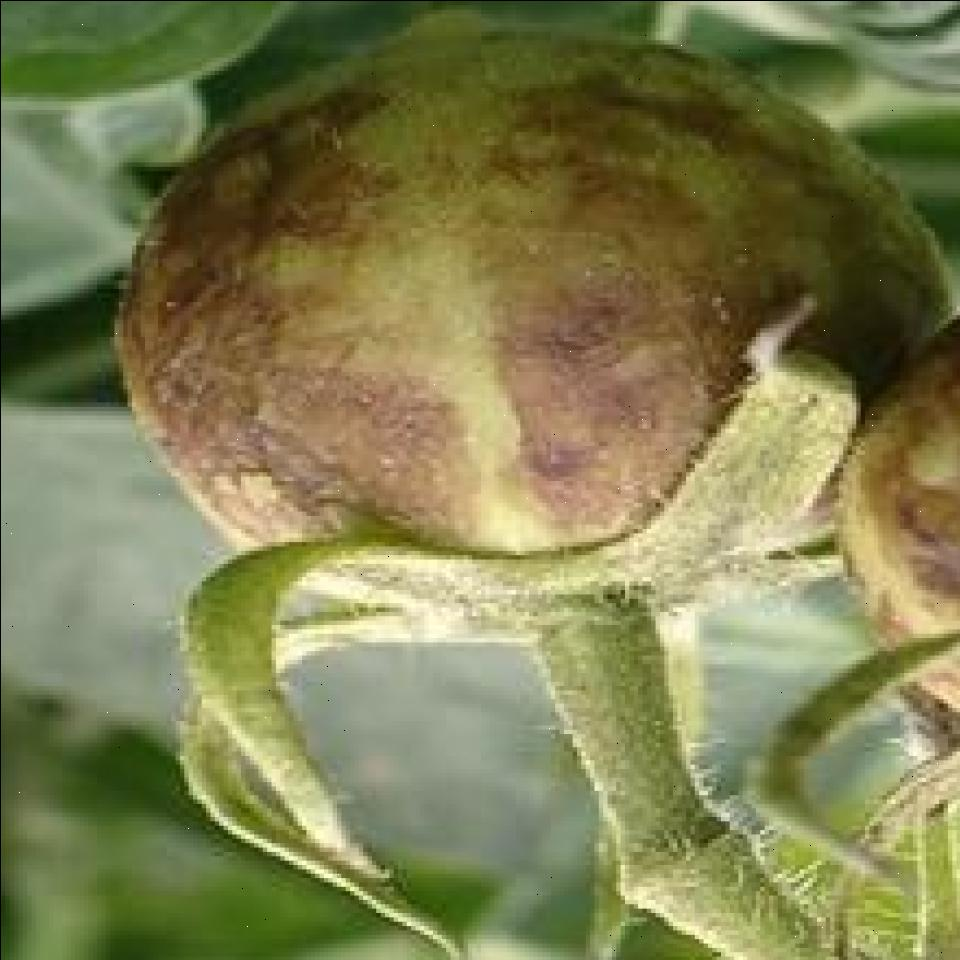Spotted wilt Virus: (116, 30, 952, 638), (838, 310, 960, 725)
